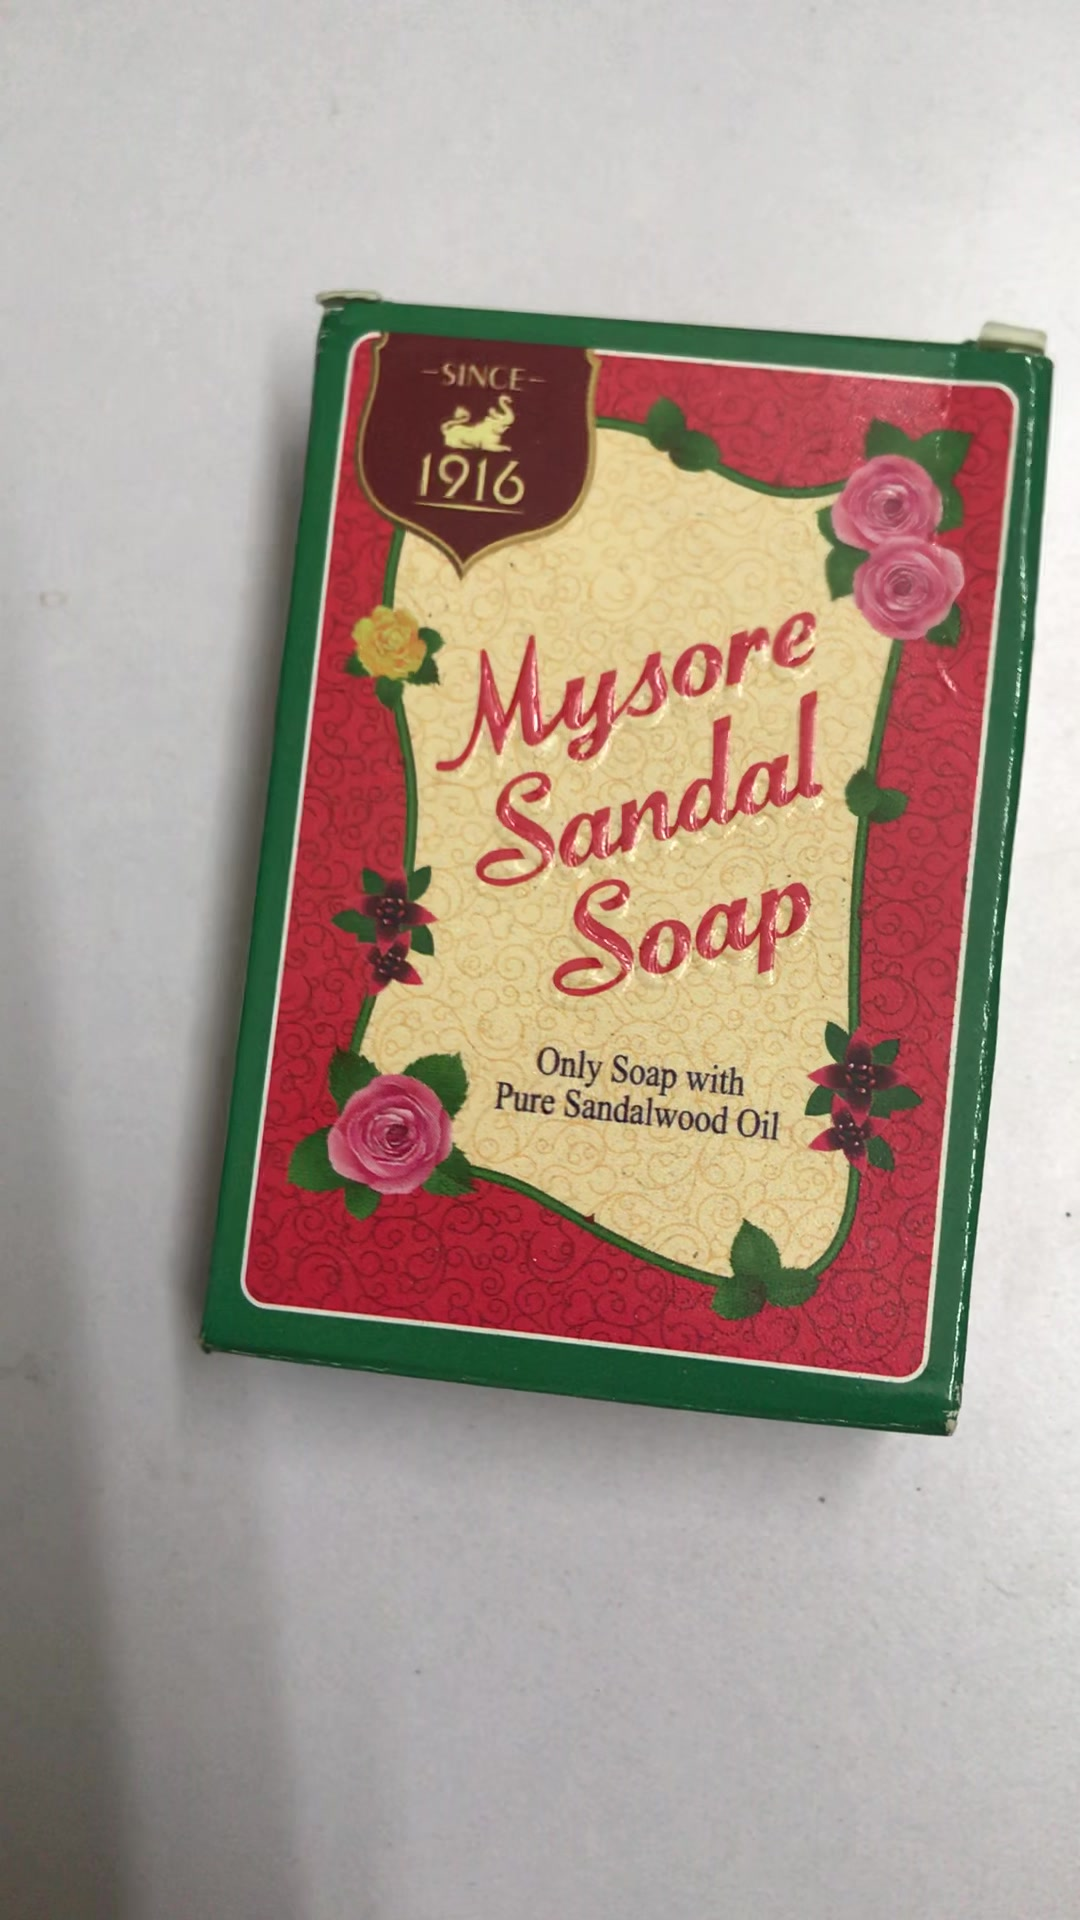mysore sandal soap: (199, 298, 1059, 1443)
